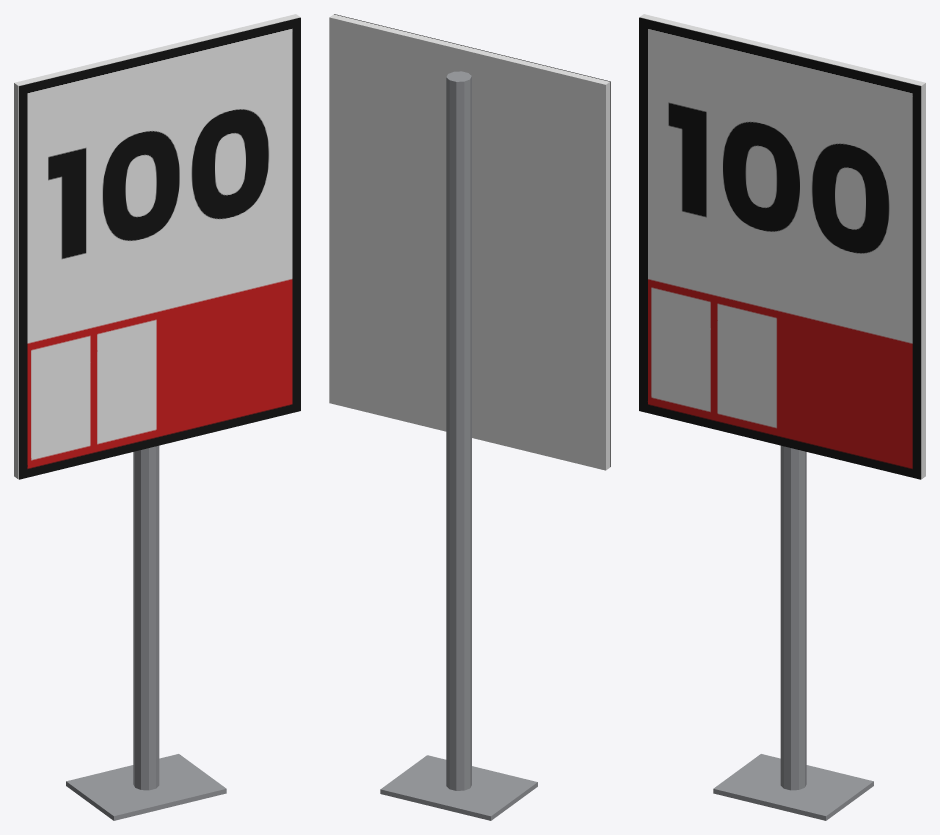
Rendered from braking_marker.glb.
The picture shows the model from 3 angles, left to right: view 1: azimuth 30°, elevation 25°; view 2: azimuth 150°, elevation 25°; view 3: azimuth 330°, elevation 25°; orthographic projection. The views are drawn at different scales.
Parts seen in each view (by area): view 1: braking_marker; view 2: braking_marker; view 3: braking_marker.
Boxes of the visible parts, x1,y1,x2,y2 form: braking_marker: (14,14,300,820); braking_marker: (329,14,610,820); braking_marker: (639,14,925,820).
Bounding box in the file's own units: 0.75 × 1.9 × 0.22.
3 materials, 1 textured.
